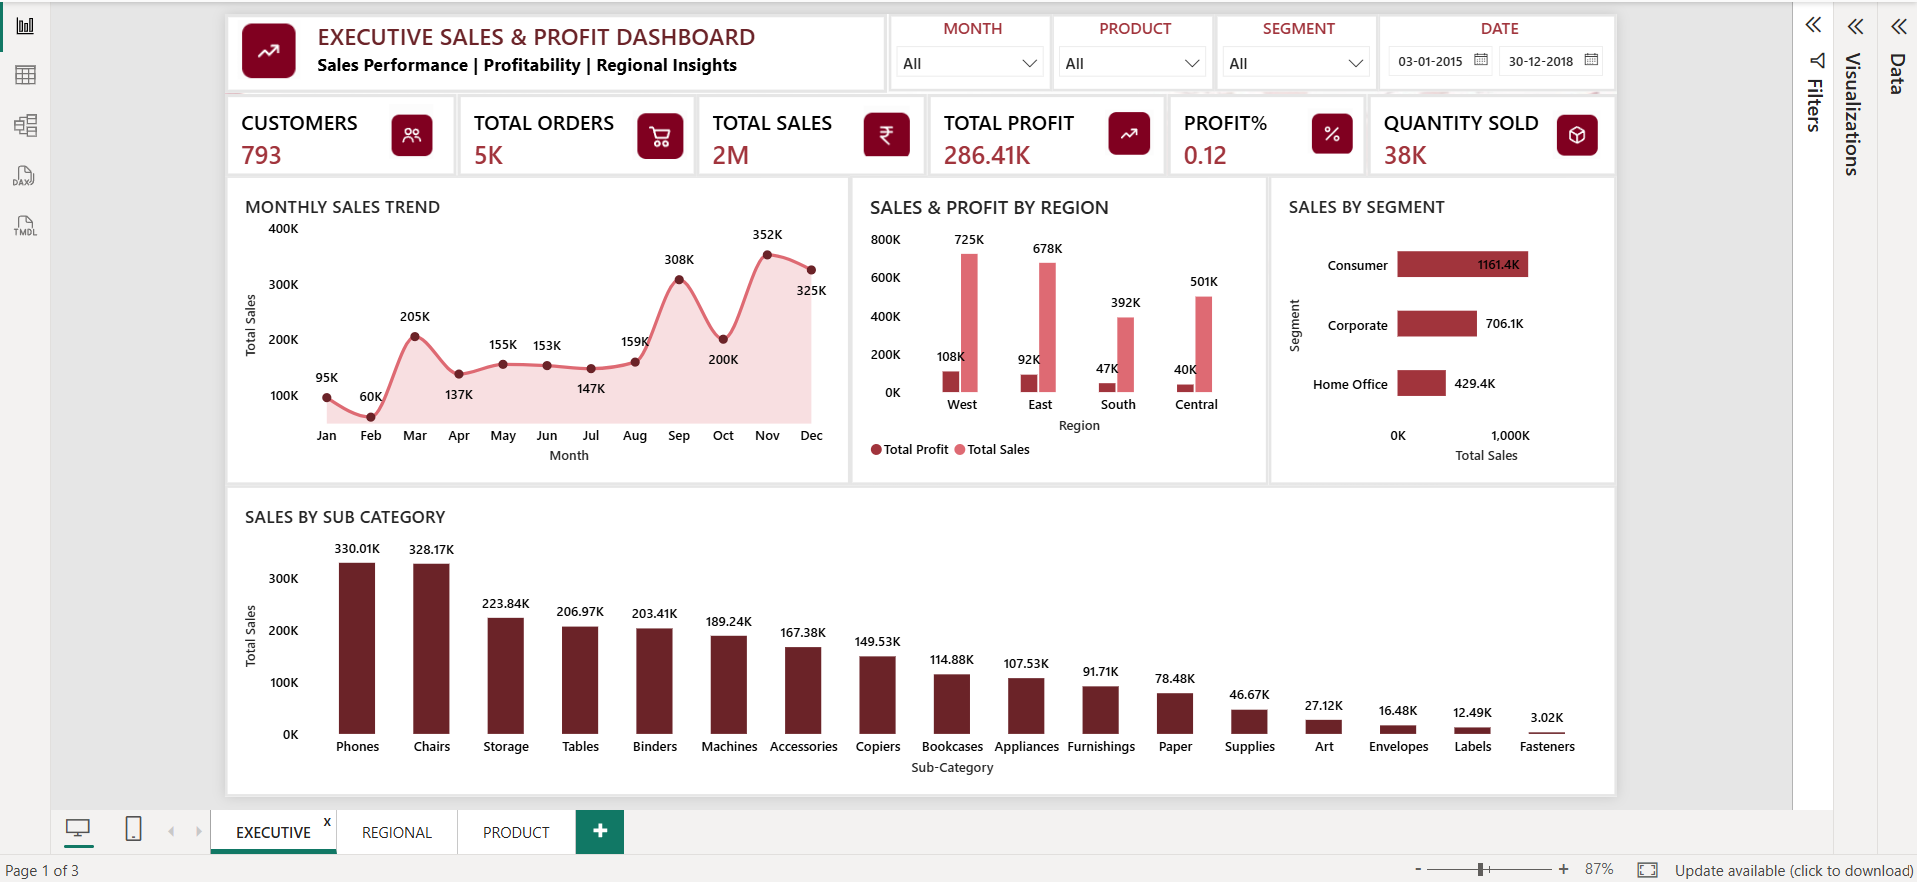

What the dashboard file says about the page in this screenshot:
{"tool":"powerbi","page":{"name":"EXECUTIVE","canvas":[1280,720],"ordinal":0},"visuals":[{"type":"lineChart","title":"MONTHLY SALES TREND","fields":{"Category":["DimDate.Month"],"Y":["superstore_sales_clean.Total Sales"]},"box":[0,148.8,575,285],"z":0},{"type":"clusteredBarChart","title":"SALES BY SEGMENT","fields":{"Category":["superstore_sales_clean.Segment"],"Y":["superstore_sales_clean.Total Sales"]},"box":[960,148.8,320,285],"z":1000},{"type":"cardVisual","fields":{"Data":["superstore_sales_clean.Total Sales"]},"box":[433.8,73,212.5,76.2],"z":2000},{"type":"clusteredColumnChart","title":"SALES &  PROFIT BY REGION","fields":{"Y":["superstore_sales_clean.Total Profit","superstore_sales_clean.Total Sales"],"Category":["superstore_sales_clean.Region"]},"box":[575,148.8,385,285],"z":3000},{"type":"clusteredColumnChart","title":"SALES BY SUB CATEGORY","fields":{"Category":["superstore_sales_clean.Sub-Category"],"Y":["superstore_sales_clean.Total Sales"]},"box":[0,433.8,1280,286.2],"z":4000},{"type":"cardVisual","fields":{"Data":["superstore_sales_clean.Total Orders"]},"box":[213.8,73,220,76.2],"z":5000},{"type":"cardVisual","fields":{"Data":["superstore_sales_clean.Total Customers"]},"box":[0,73,213.8,76.2],"z":6000},{"type":"cardVisual","fields":{"Data":["superstore_sales_clean.Total Profit"]},"box":[646.2,73,220,76.2],"z":7000},{"type":"cardVisual","fields":{"Data":["superstore_sales_clean.Profit Margin %"]},"box":[866.2,73,183.8,76.2],"z":8000},{"type":"image","box":[146.2,83,50,50],"z":9000},{"type":"image","box":[375,86.7,50,50],"z":10000},{"type":"image","box":[808.8,86.7,45,46.2],"z":11000},{"type":"image","box":[587.5,83,42.5,50],"z":12000},{"type":"image","box":[995,83,41.2,50],"z":13000},{"type":"cardVisual","fields":{"Data":["superstore_sales_clean.Total Quantity"]},"box":[1050,73,230,76.2],"z":14000},{"type":"image","box":[1221.2,86.7,43.8,50],"z":15000},{"type":"slicer","title":"DATE","fields":{"Values":["superstore_sales_clean.Order Date"]},"box":[1060,0,220,71.2],"z":16000},{"type":"slicer","title":"SEGMENT","fields":{"Values":["superstore_sales_clean.State"]},"box":[910,0,150,71.2],"z":17000},{"type":"slicer","title":"PRODUCT","fields":{"Values":["superstore_sales_clean.Segment"]},"box":[760,0,150,71.2],"z":18000},{"type":"slicer","title":"MONTH","fields":{"Values":["DimDate.Month"]},"box":[610,0,150,71.2],"z":19000},{"type":"shape","box":[0,0,608.8,72.5],"z":20000},{"type":"textbox","box":[85,6.2,523.8,65],"z":21000},{"type":"image","box":[11.2,0,57.5,66.2],"z":22000}]}

Visuals, with their boxes on the page's 1280x720 design canvas (x1, y1, x2, y2). These are canvas units, not pixel positions in the 1917x882 screenshot, which may show the page scaled, cropped or inside an application window:
"MONTHLY SALES TREND" lineChart: <box>0,149,575,434</box>
"SALES BY SEGMENT" clusteredBarChart: <box>960,149,1280,434</box>
cardVisual - superstore_sales_clean.Total Sales: <box>434,73,646,149</box>
"SALES &  PROFIT BY REGION" clusteredColumnChart: <box>575,149,960,434</box>
"SALES BY SUB CATEGORY" clusteredColumnChart: <box>0,434,1280,720</box>
cardVisual - superstore_sales_clean.Total Orders: <box>214,73,434,149</box>
cardVisual - superstore_sales_clean.Total Customers: <box>0,73,214,149</box>
cardVisual - superstore_sales_clean.Total Profit: <box>646,73,866,149</box>
cardVisual - superstore_sales_clean.Profit Margin %: <box>866,73,1050,149</box>
image: <box>146,83,196,133</box>
image: <box>375,87,425,137</box>
image: <box>809,87,854,133</box>
image: <box>588,83,630,133</box>
image: <box>995,83,1036,133</box>
cardVisual - superstore_sales_clean.Total Quantity: <box>1050,73,1280,149</box>
image: <box>1221,87,1265,137</box>
"DATE" slicer: <box>1060,0,1280,71</box>
"SEGMENT" slicer: <box>910,0,1060,71</box>
"PRODUCT" slicer: <box>760,0,910,71</box>
"MONTH" slicer: <box>610,0,760,71</box>
shape: <box>0,0,609,72</box>
textbox: <box>85,6,609,71</box>
image: <box>11,0,69,66</box>
